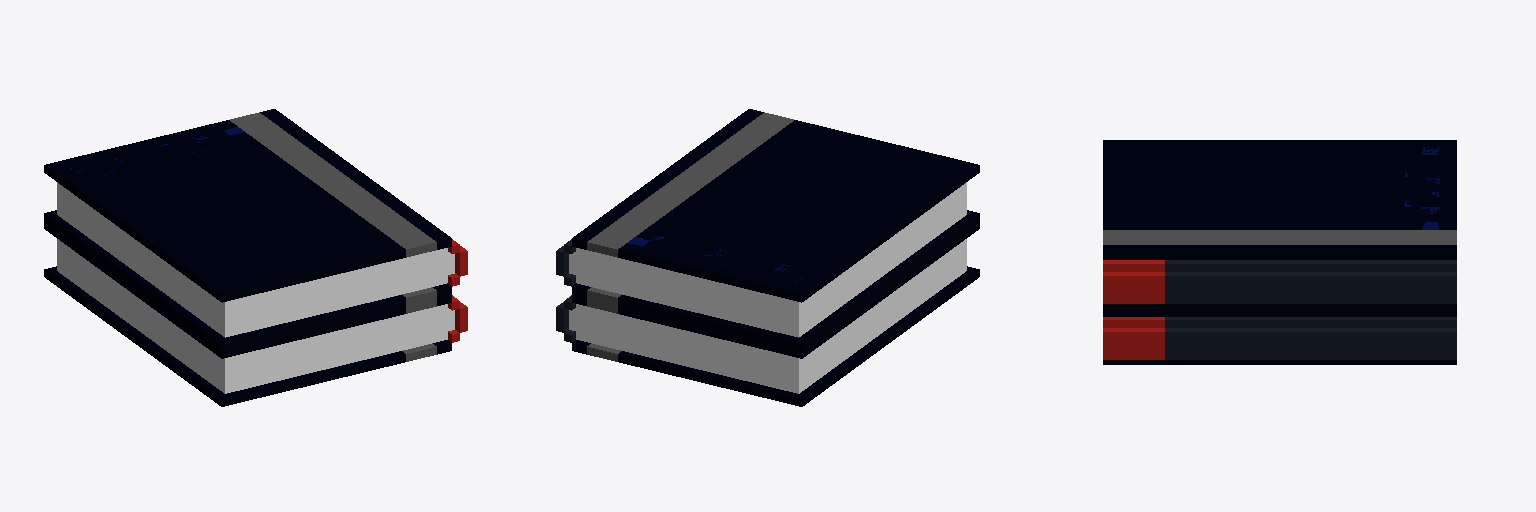
File: Book04.obj
The picture shows the model from 3 angles: view 1: azimuth 30°, elevation 25°; view 2: azimuth 150°, elevation 25°; view 3: azimuth 270°, elevation 25°; orthographic projection.
Parts seen in each view (by area): view 1: Book04; view 2: Book04; view 3: Book04.
Part boxes in pixels (bbox=[...]): Book04: bbox=[44, 109, 467, 406]; Book04: bbox=[556, 109, 979, 406]; Book04: bbox=[1103, 140, 1456, 364].
Bounding box in the file's own units: 2 × 0.875 × 2.5.